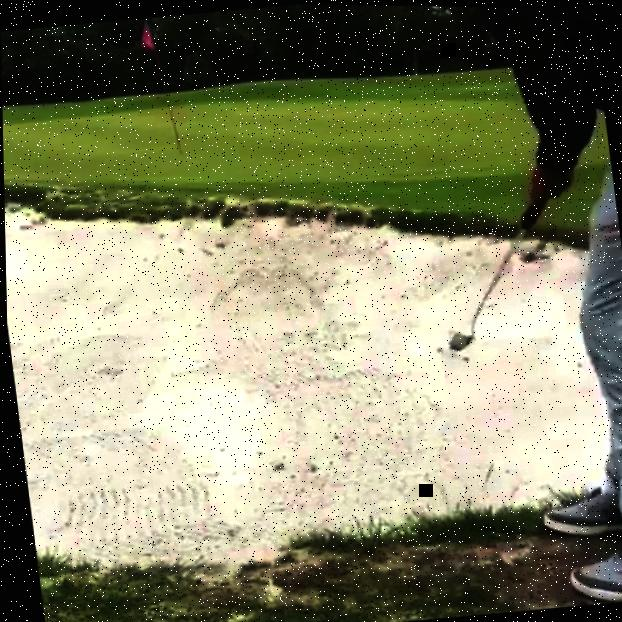ClubHead: (447, 329, 472, 349)
